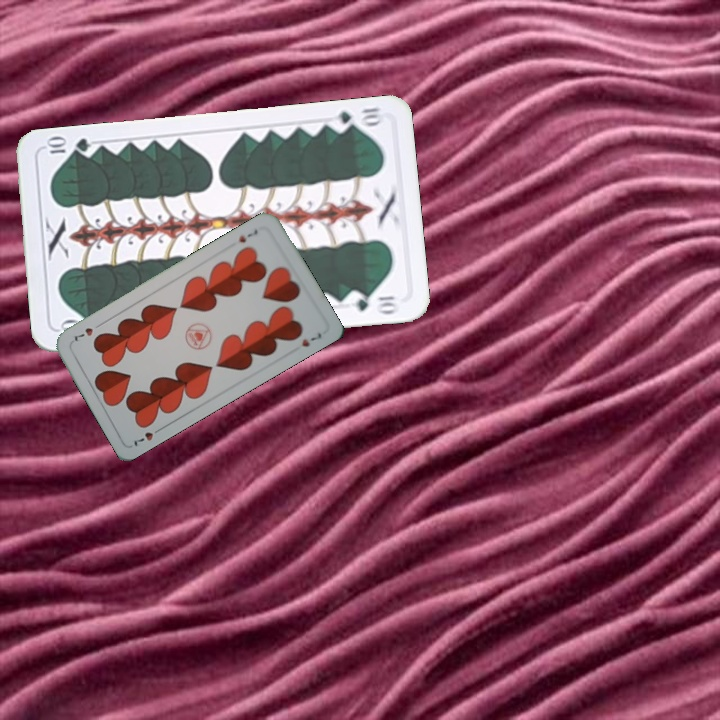G10: (326, 103, 386, 134)
H7: (130, 423, 166, 449), (234, 225, 260, 245)
